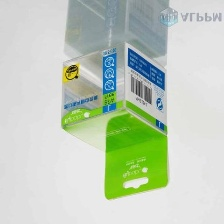plastic_box: (48, 36, 178, 207)
